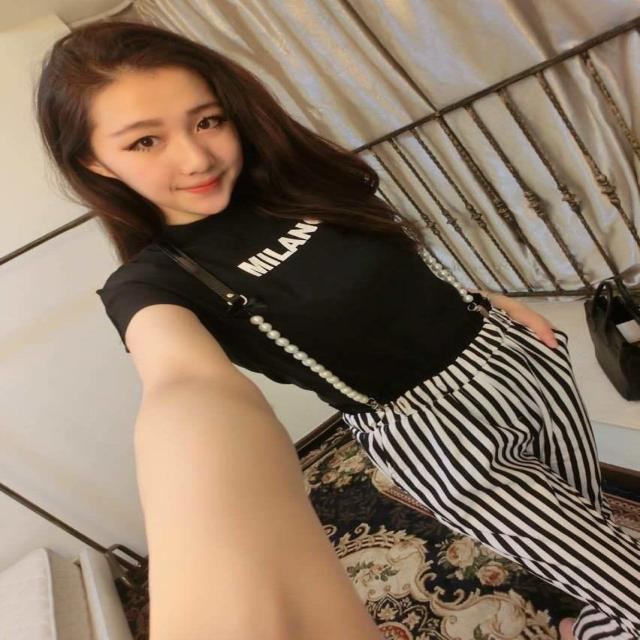short-sleeve-top: (87, 218, 510, 380)
trousers: (340, 410, 633, 618)
